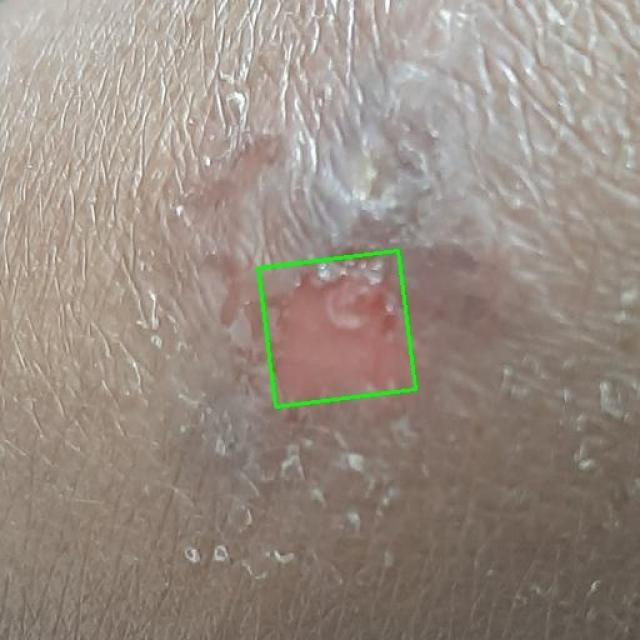Eczema: (258, 251, 416, 407)
